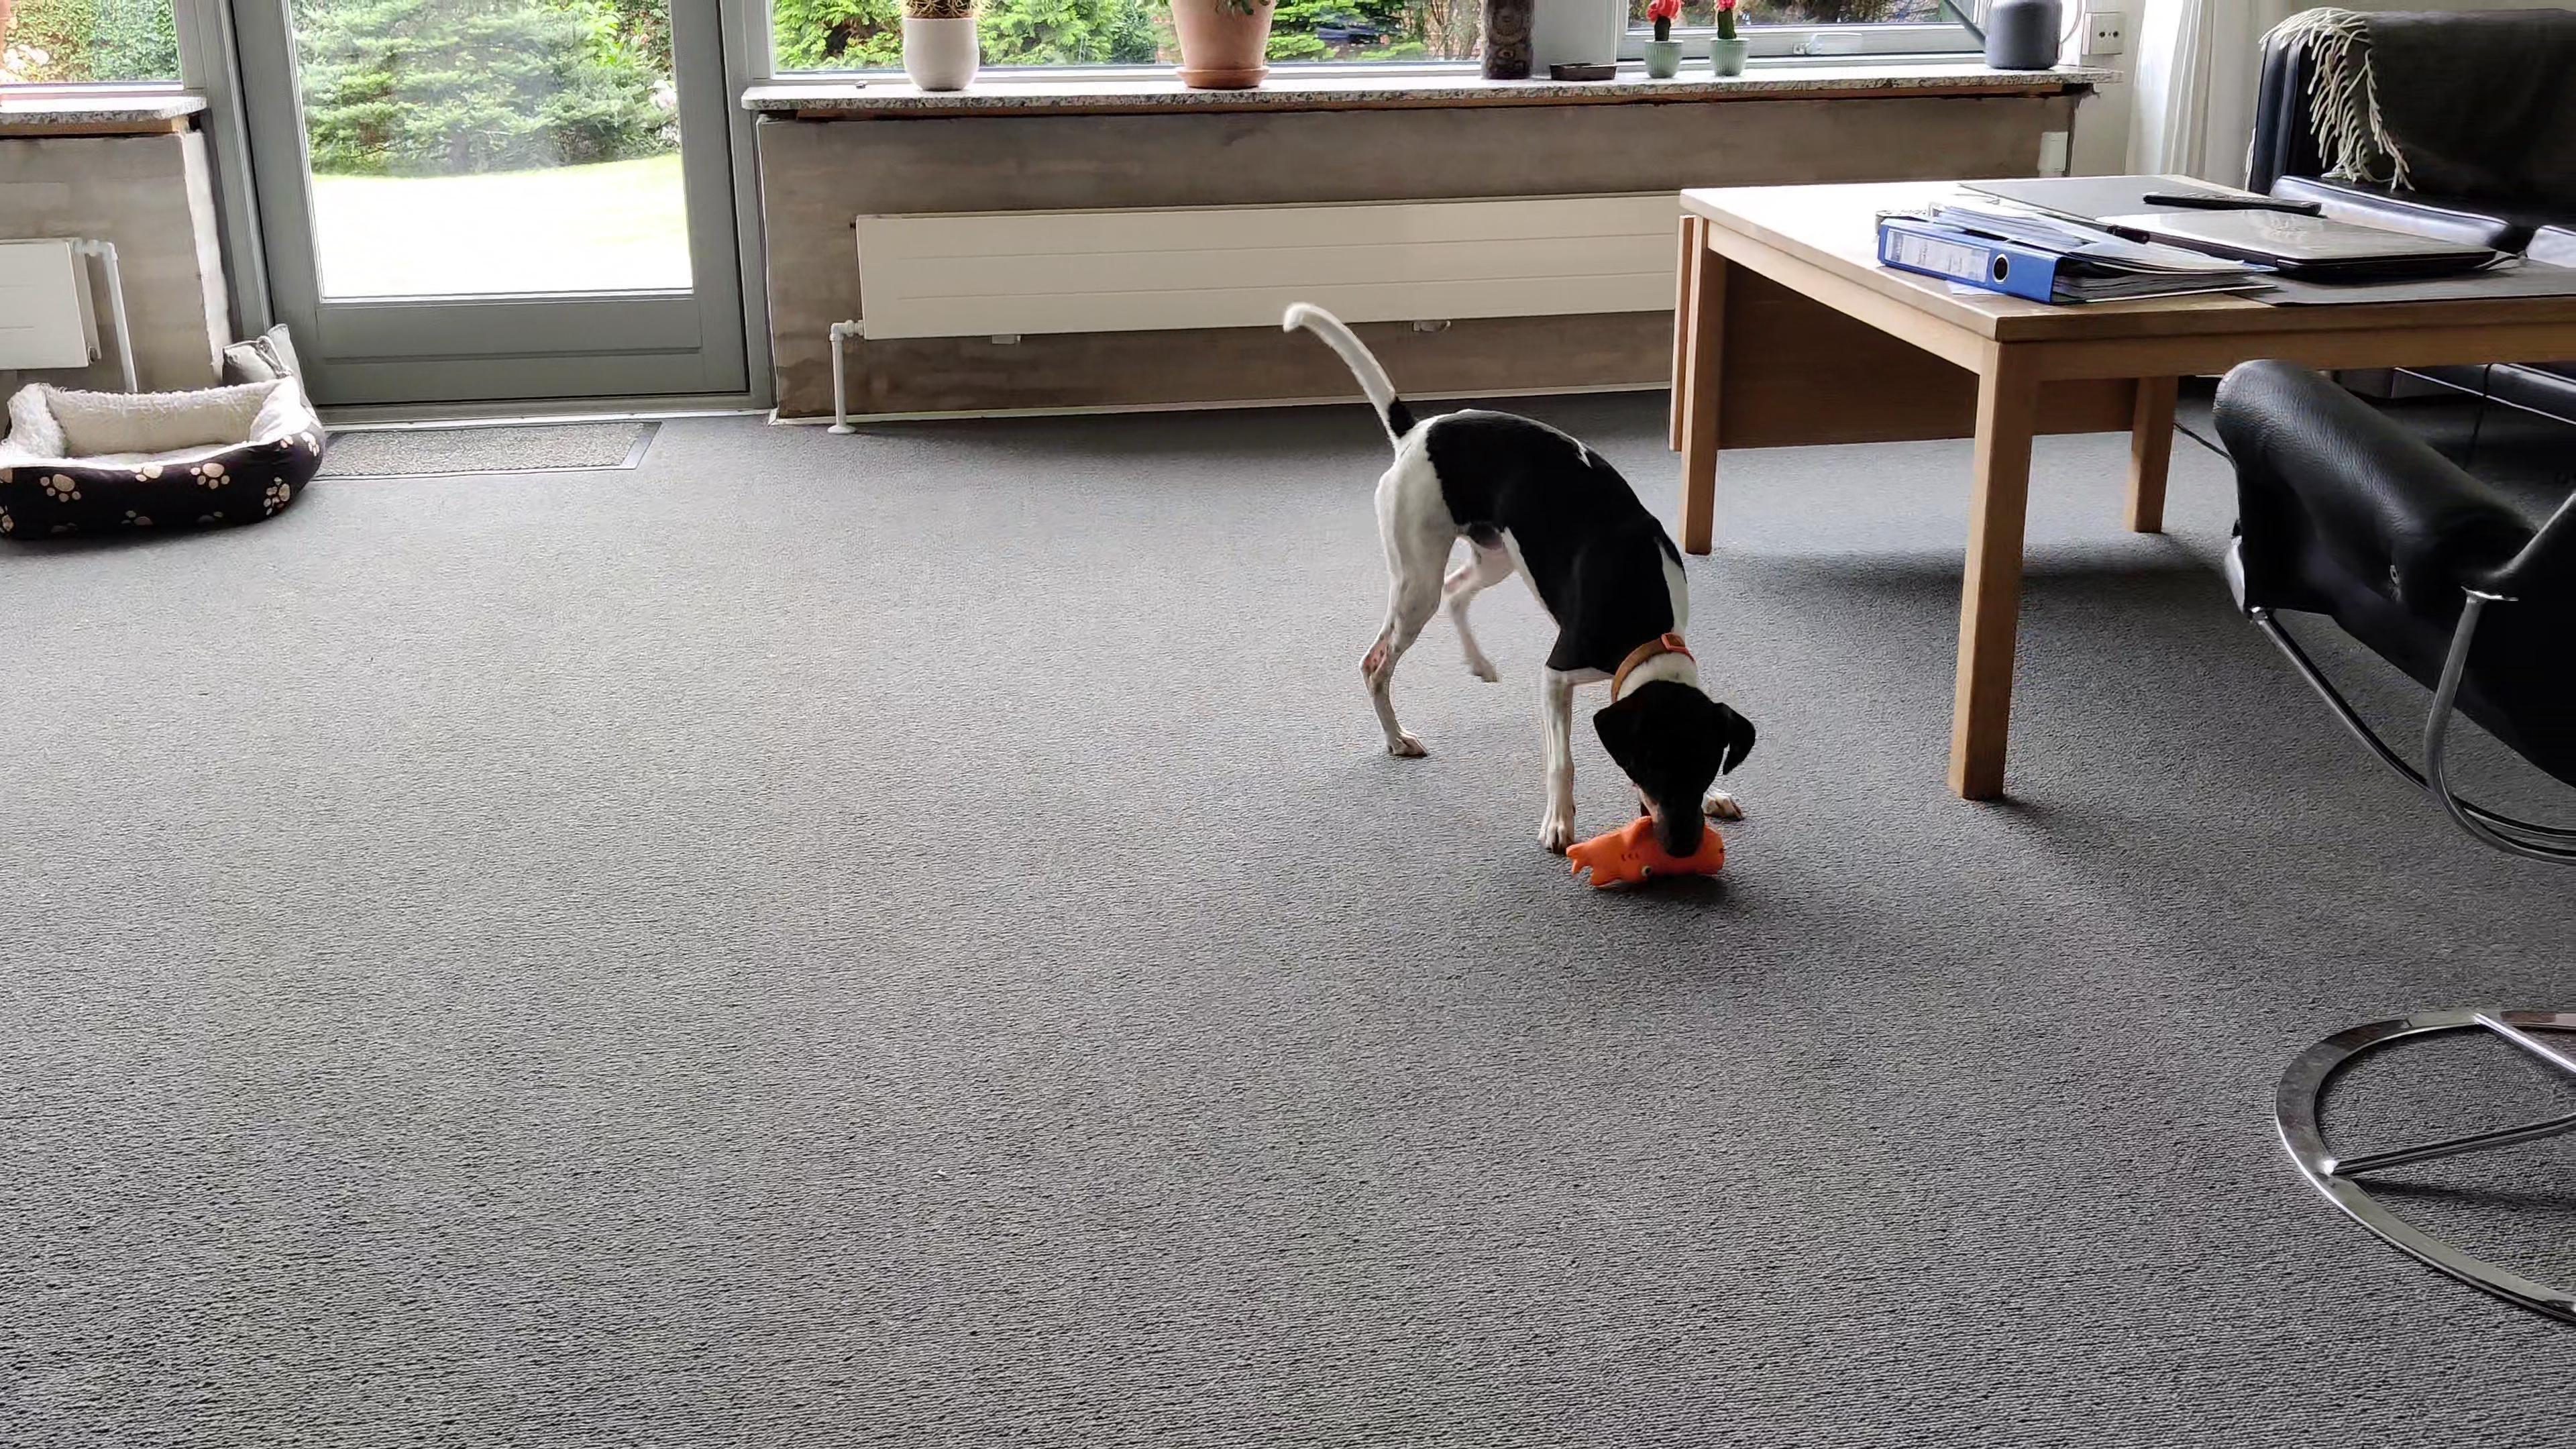Dog: (1276, 301, 1760, 856)
